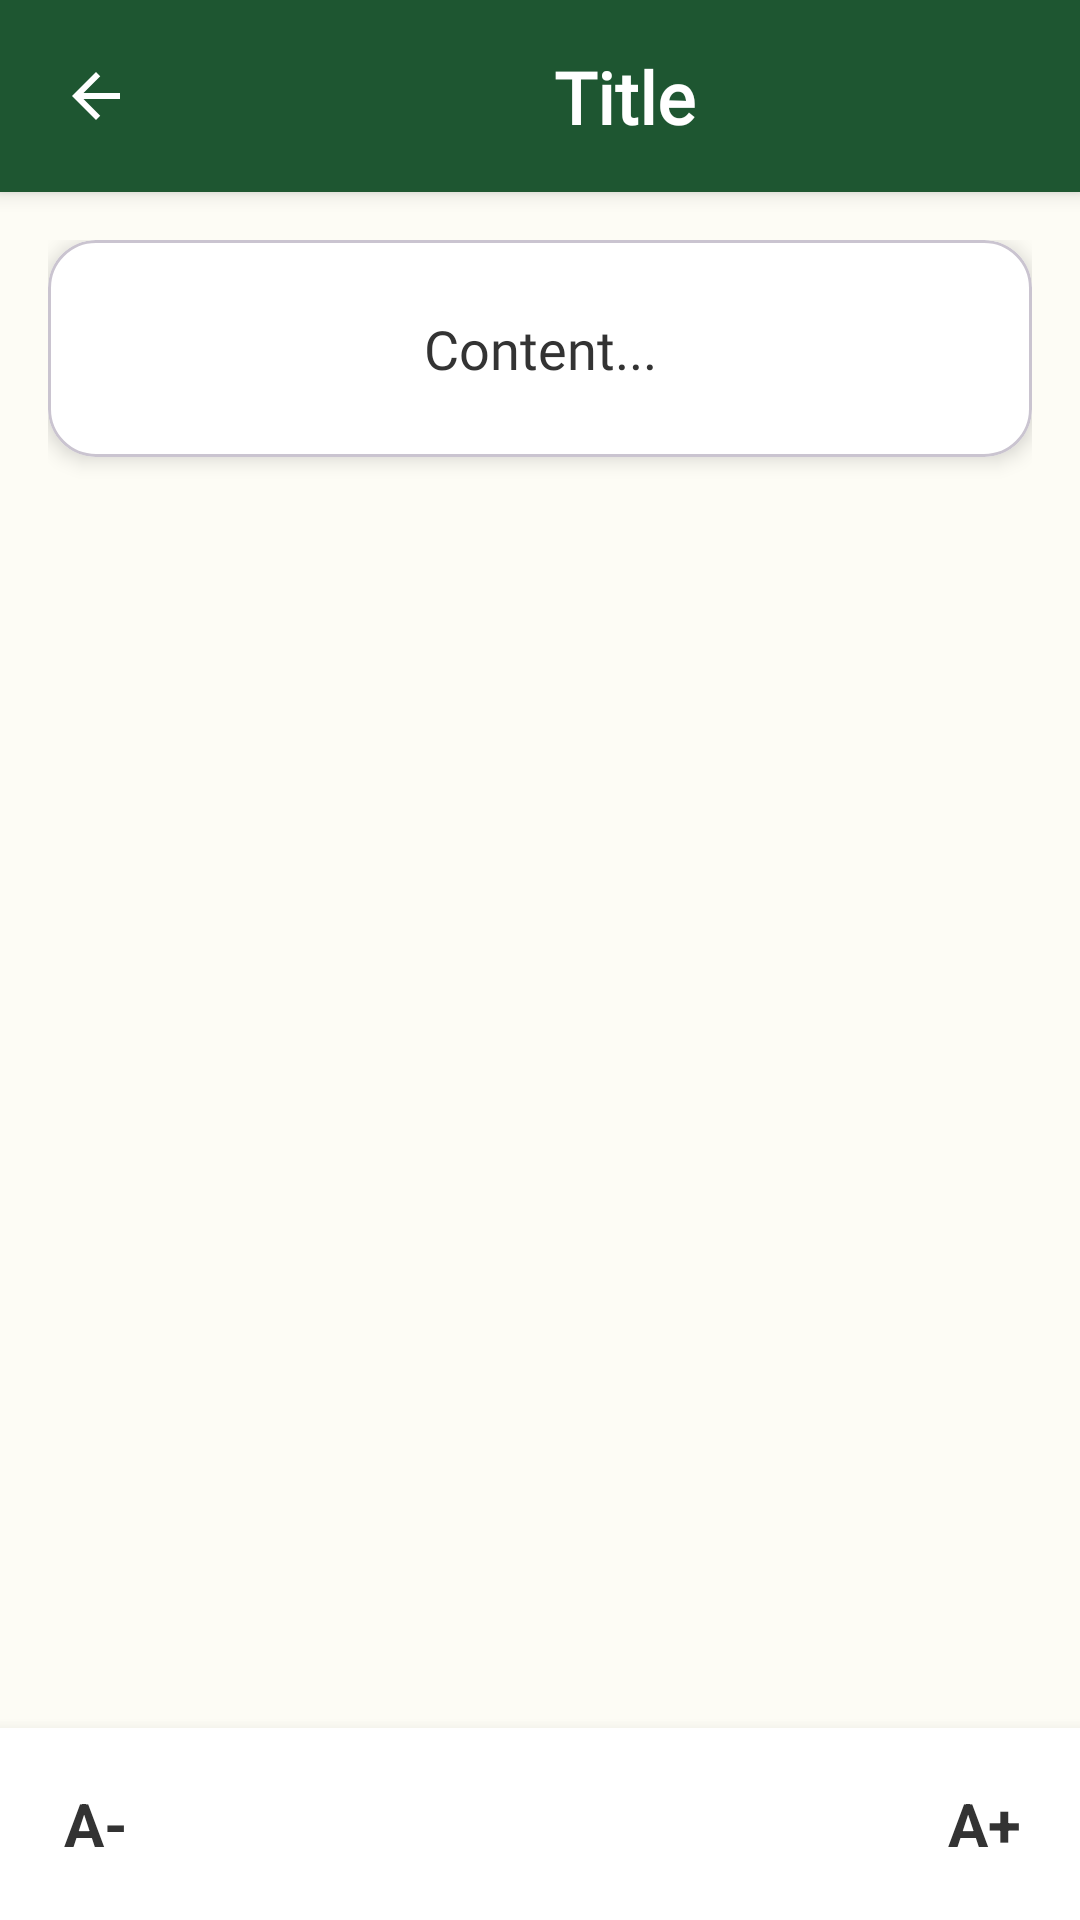

Named icons in this screenshot (1080w x 1920h) and their bounding boxes, (x1, y1, x2, y2):
Back: (72, 72, 120, 120)
